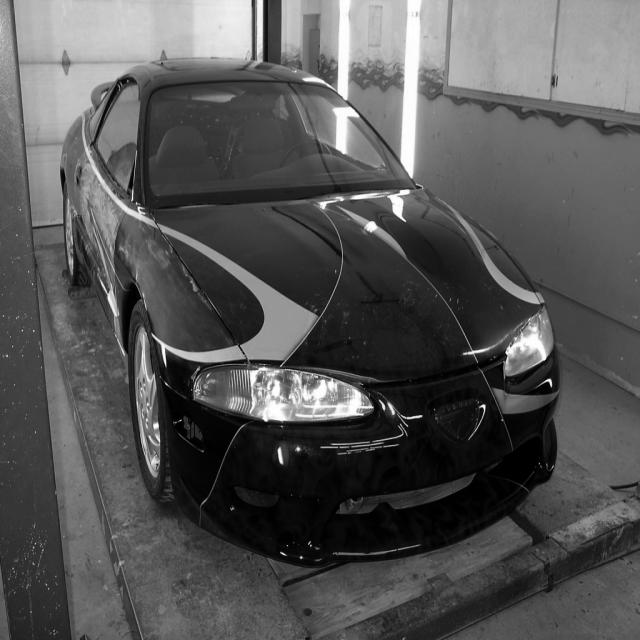car: (59, 52, 562, 568)
